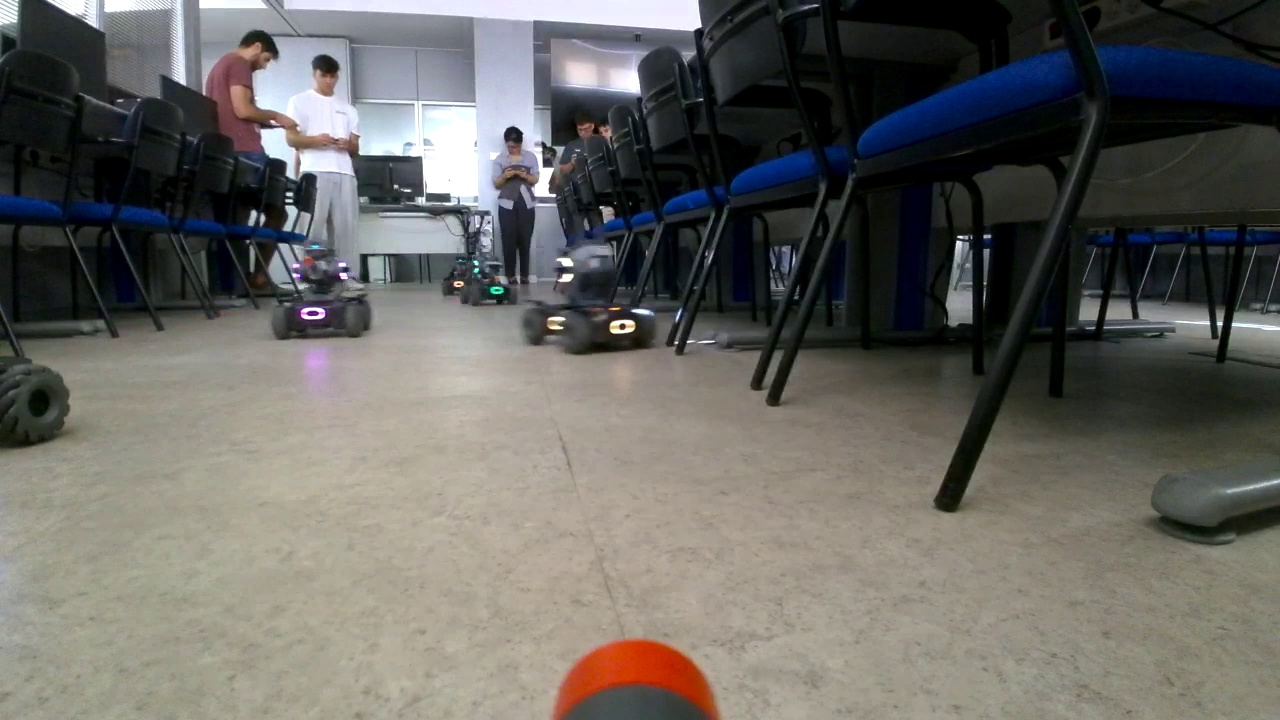robot: (522, 239, 655, 351), (271, 241, 371, 335), (454, 250, 519, 308), (440, 252, 480, 295)
